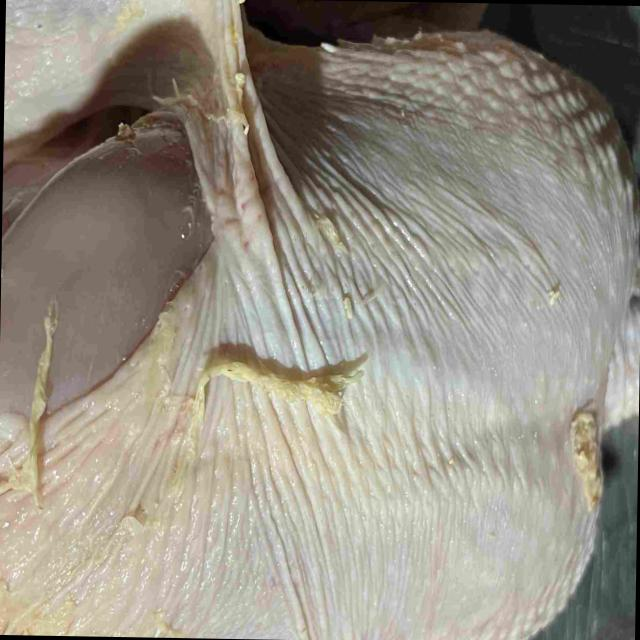breast: (0, 49, 638, 640)
neck: (589, 266, 640, 421)
wing: (3, 0, 258, 156), (277, 0, 481, 26)
